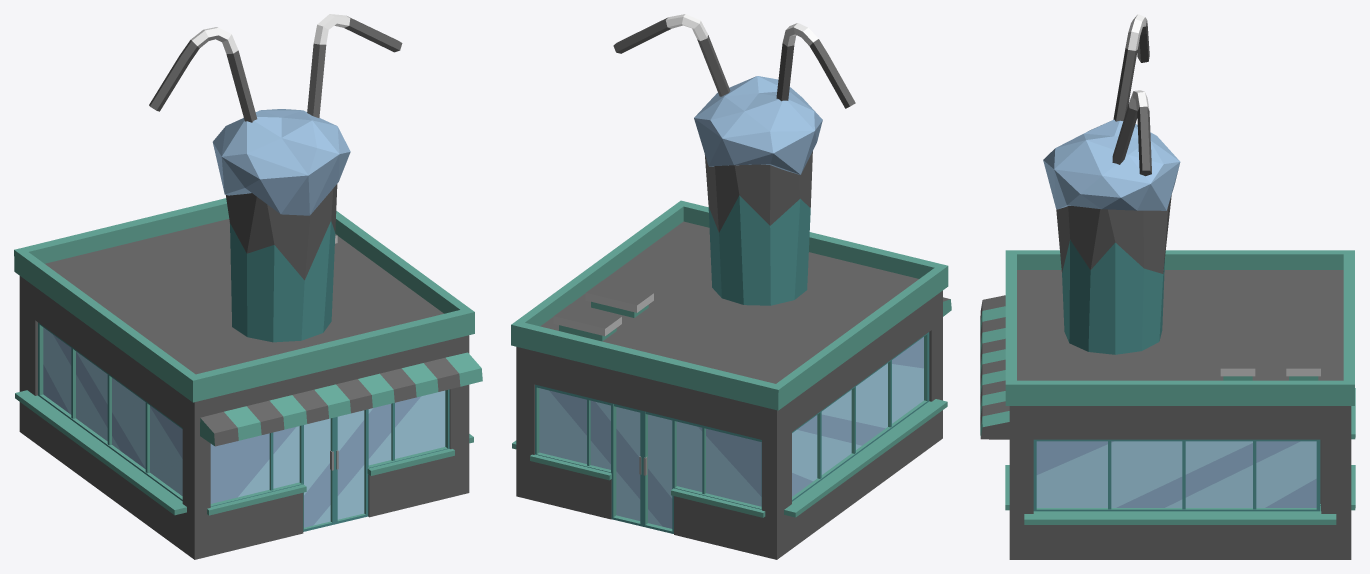
File: cafe_009.glb
The picture shows the model from 3 angles, left to right: view 1: azimuth 30°, elevation 25°; view 2: azimuth 150°, elevation 25°; view 3: azimuth 270°, elevation 25°; orthographic projection. The views are drawn at different scales.
Visible parts, largest first — view 1: cafe_009; view 2: cafe_009; view 3: cafe_009.
Part boxes in pixels (x1,y1,x2,y2): cafe_009: (14,14,482,559); cafe_009: (511,14,951,559); cafe_009: (980,14,1355,559).
Bounding box in the file's own units: 5.64 × 8.34 × 6.27.
Materials: 1 (1 with a texture image).
